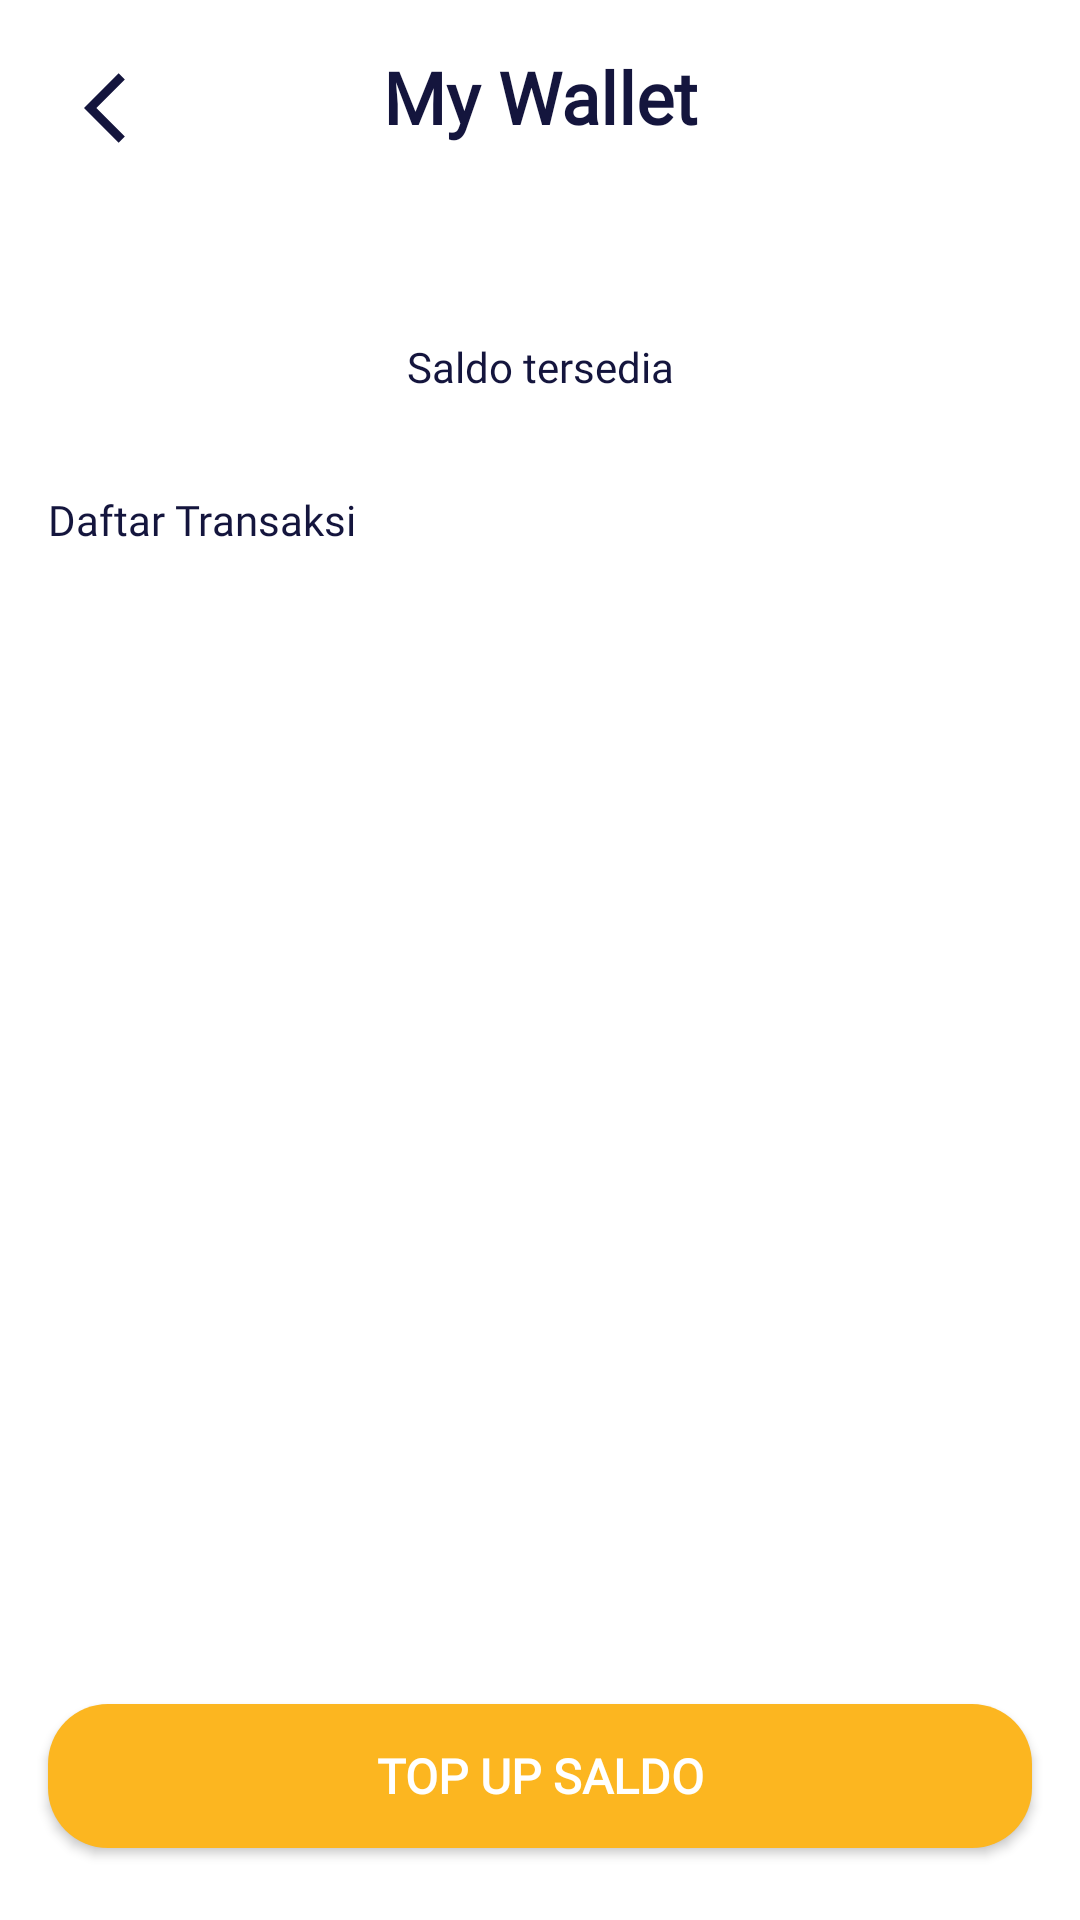

Icons on this 1080x1920 Android screen, each with its box as bbox=(x1, y1, x2, y2):
arrow back: bbox=(84, 73, 125, 143)
